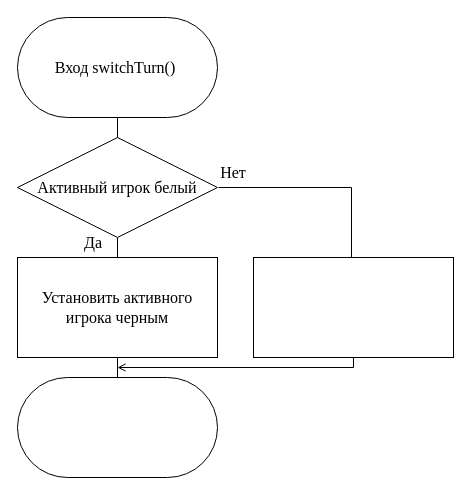
Image size: 471x495. Some labels were removed from this diagram. Here are the shapes that lost their labels. From the top down, the centre of each, then its label:
the point at 353,307: Установить активного игрока белым
the point at 117,427: Выход switchTurn()
